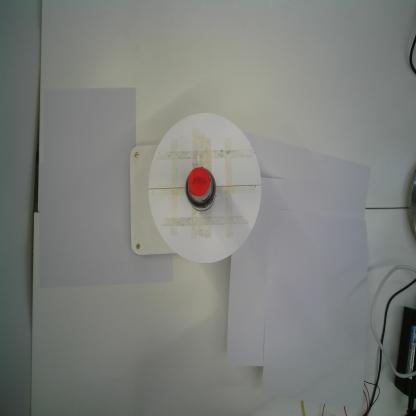Seasoner: (185, 167, 217, 209)
